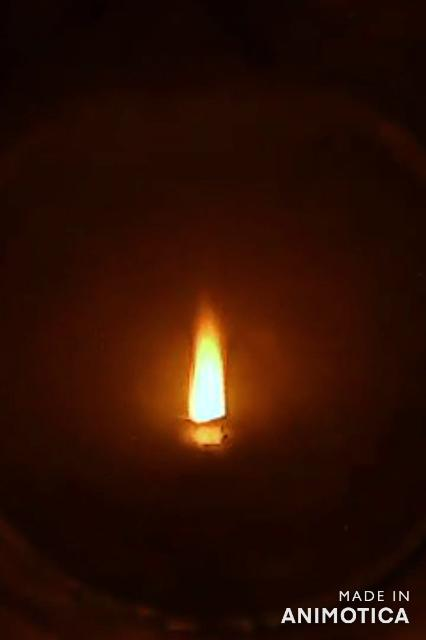burner flame: (186, 294, 230, 428)
